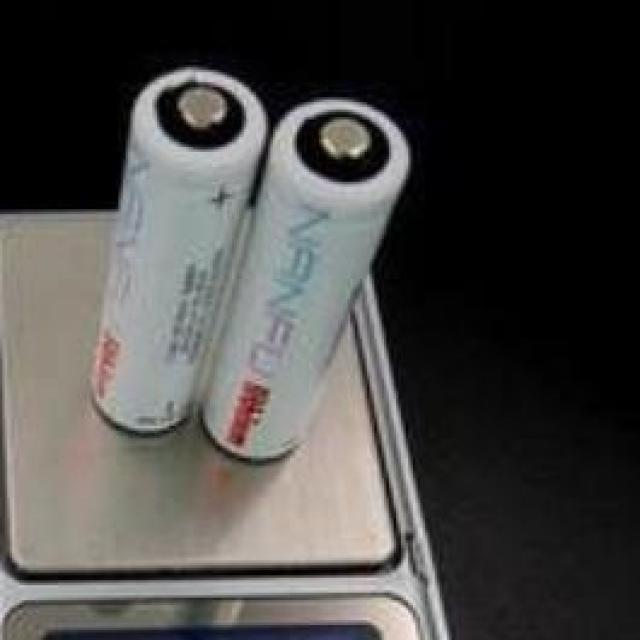-Hazardous waste - battery-: (200, 95, 410, 465), (84, 70, 266, 434)
